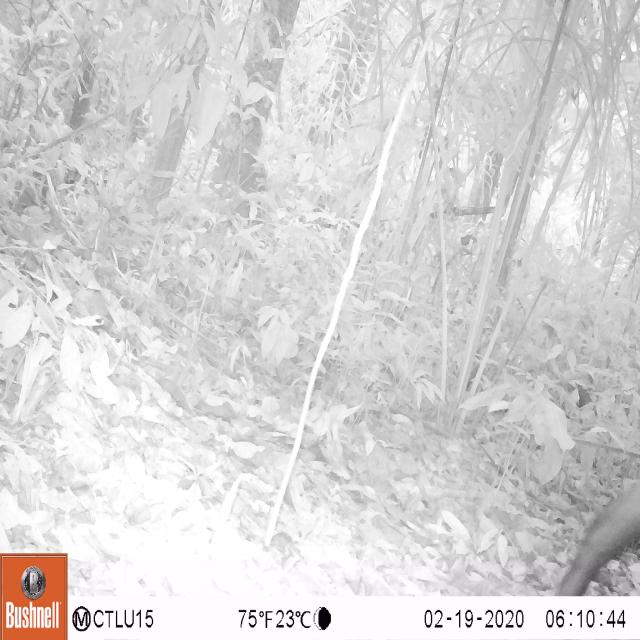Lowland Tapir: (542, 470, 640, 595)
